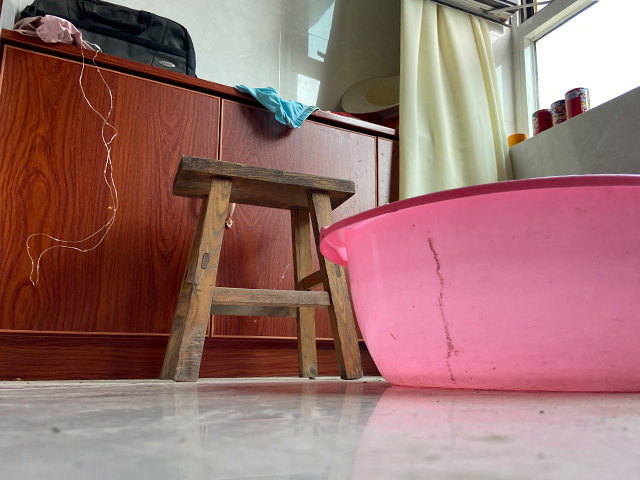cabinet: (1, 26, 401, 382)
stool: (157, 154, 364, 381)
